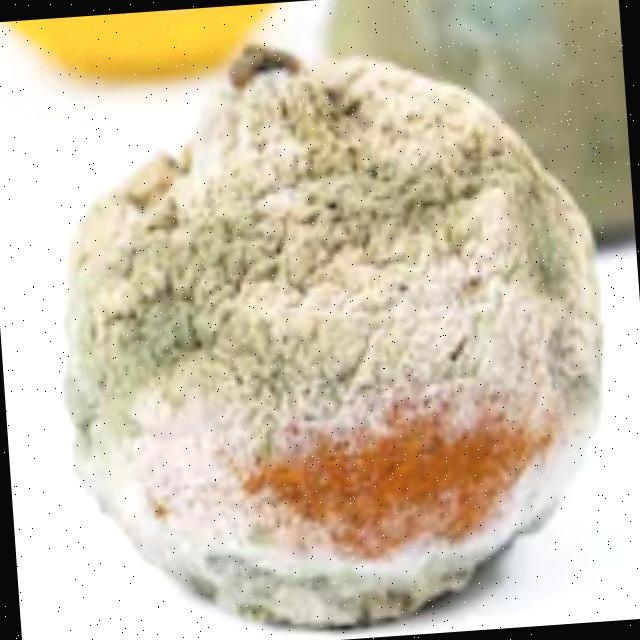rotten orange: (38, 17, 624, 640)
